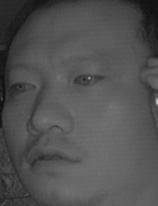eye: (71, 69, 104, 90), (9, 76, 36, 96)
mouth: (25, 143, 84, 176)
